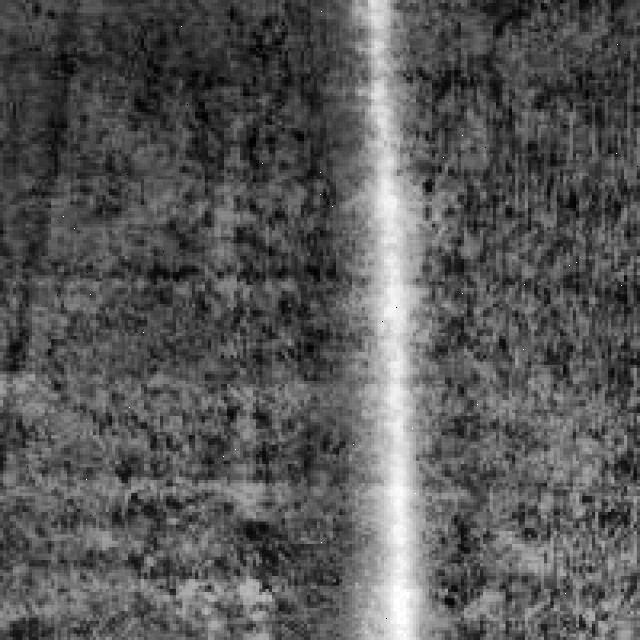Inclusion: (362, 3, 419, 630)
